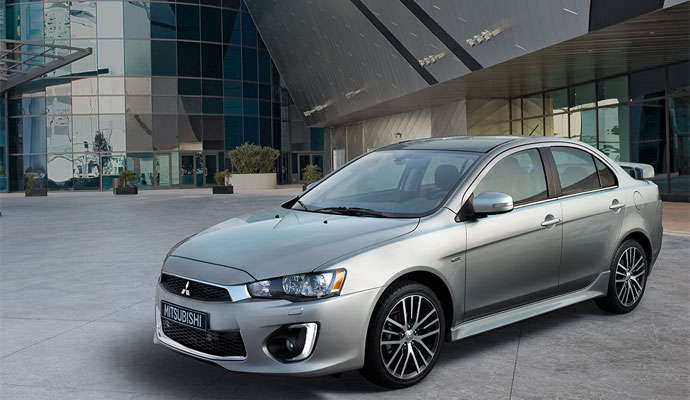sedan: (152, 132, 665, 390)
